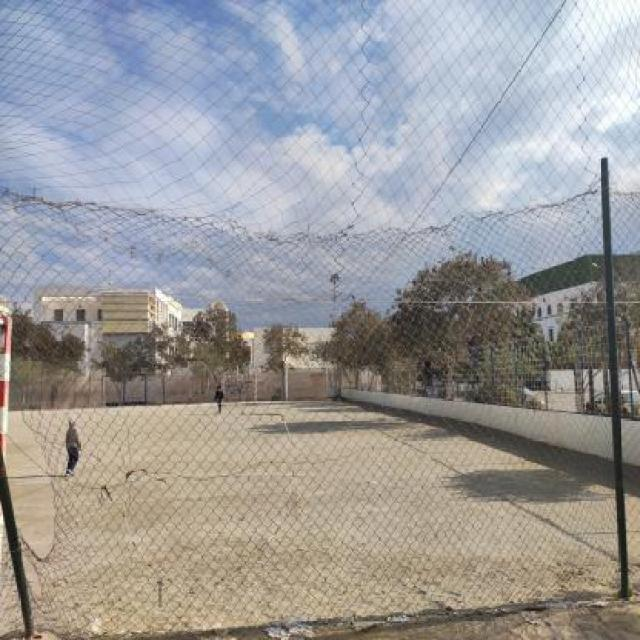fence line: (9, 409, 66, 556)
